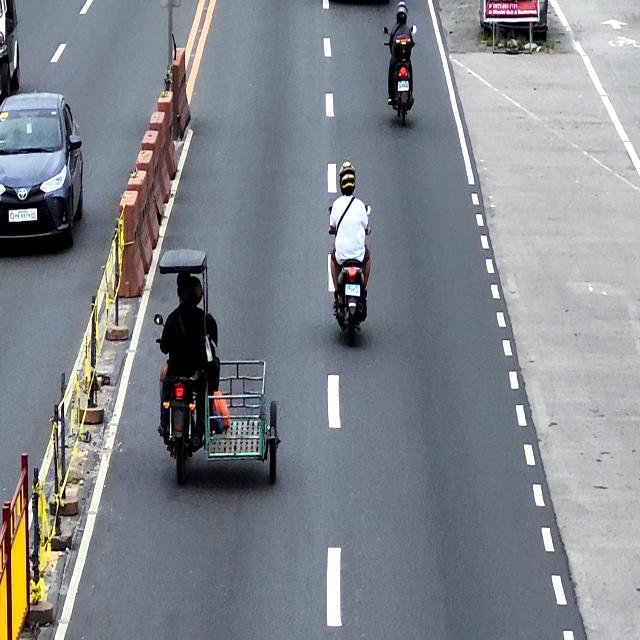Car: (0, 91, 85, 258)
License-Plate: (8, 209, 38, 222), (344, 284, 360, 296), (398, 80, 409, 91)
Motorcycle: (329, 202, 371, 341), (384, 24, 416, 126)
Tricycle: (152, 309, 280, 485)
